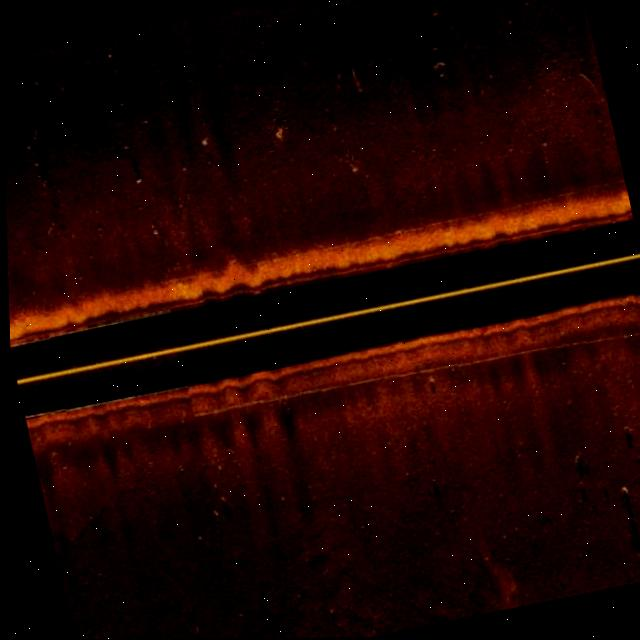mine: (614, 474, 640, 552), (342, 37, 366, 97)
